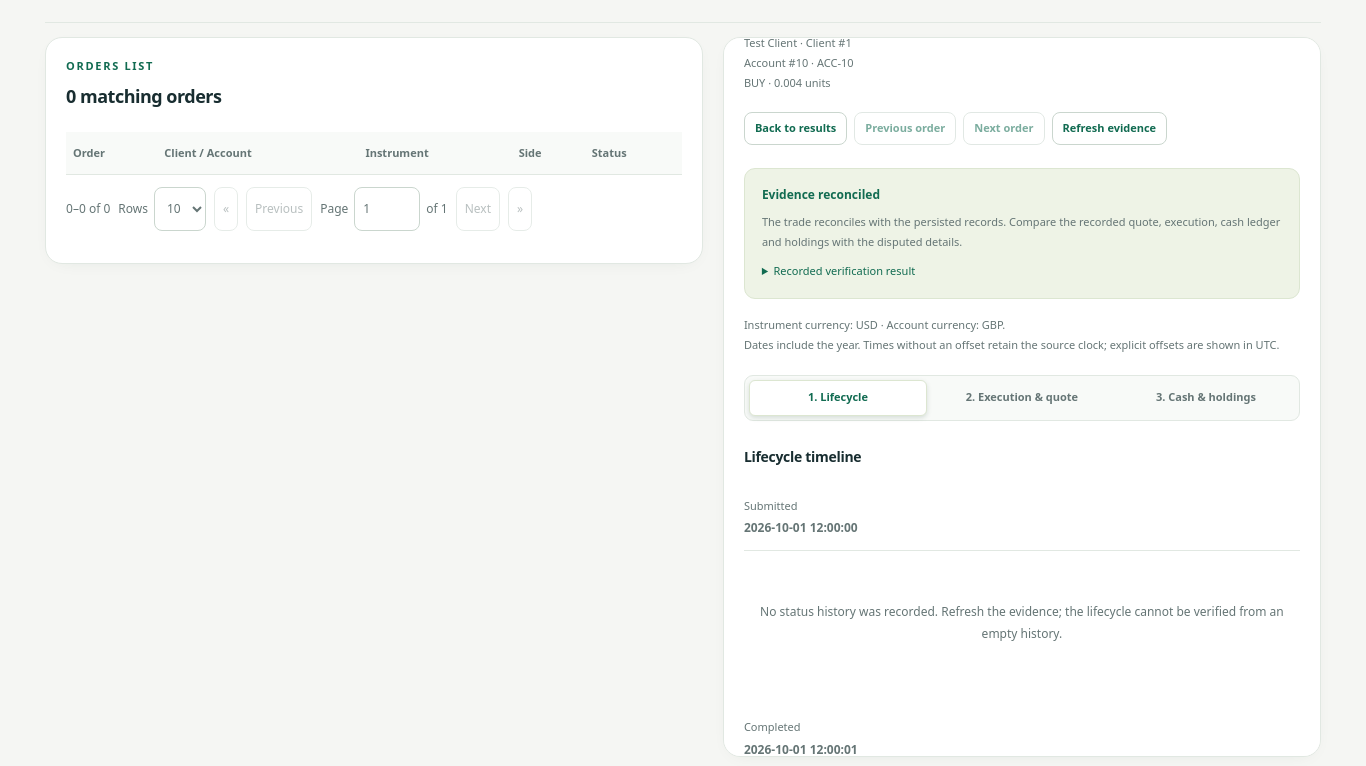
OperationsComponent › shows the recorded FX, ledger and historical holdings in their own evidence section
(page scrolled)
Click the button "3. Cash & holdings" at (1206, 398), box x1=1117 y1=380 x2=1295 y2=416
(page scrolled)
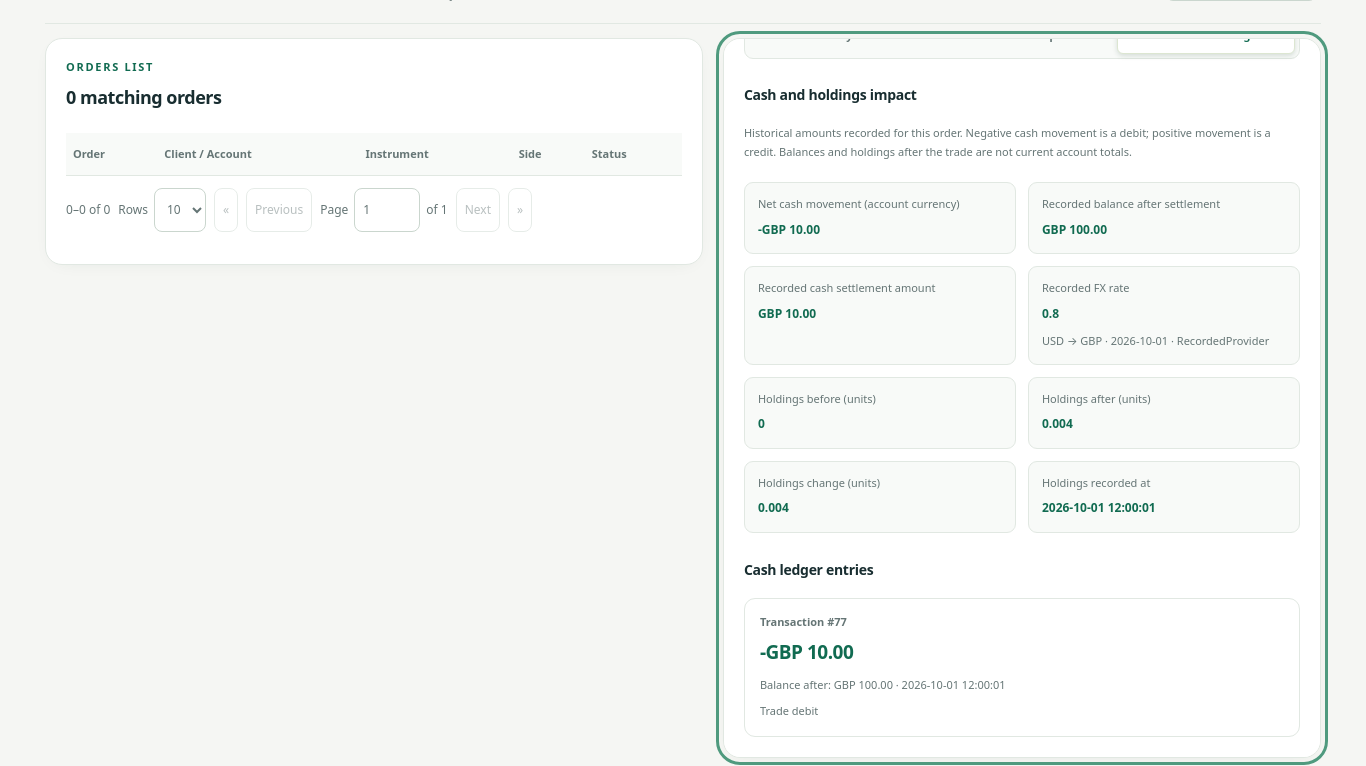
Result: the element with id "settlement-evidence" shows "USD → GBP" at x1=1042 y1=333 x2=1269 y2=348
Result: the element with id "settlement-evidence" shows "0.8" at x1=1042 y1=305 x2=1059 y2=322
Result: the element with id "settlement-evidence" shows "RecordedProvider" at x1=1042 y1=333 x2=1269 y2=348
